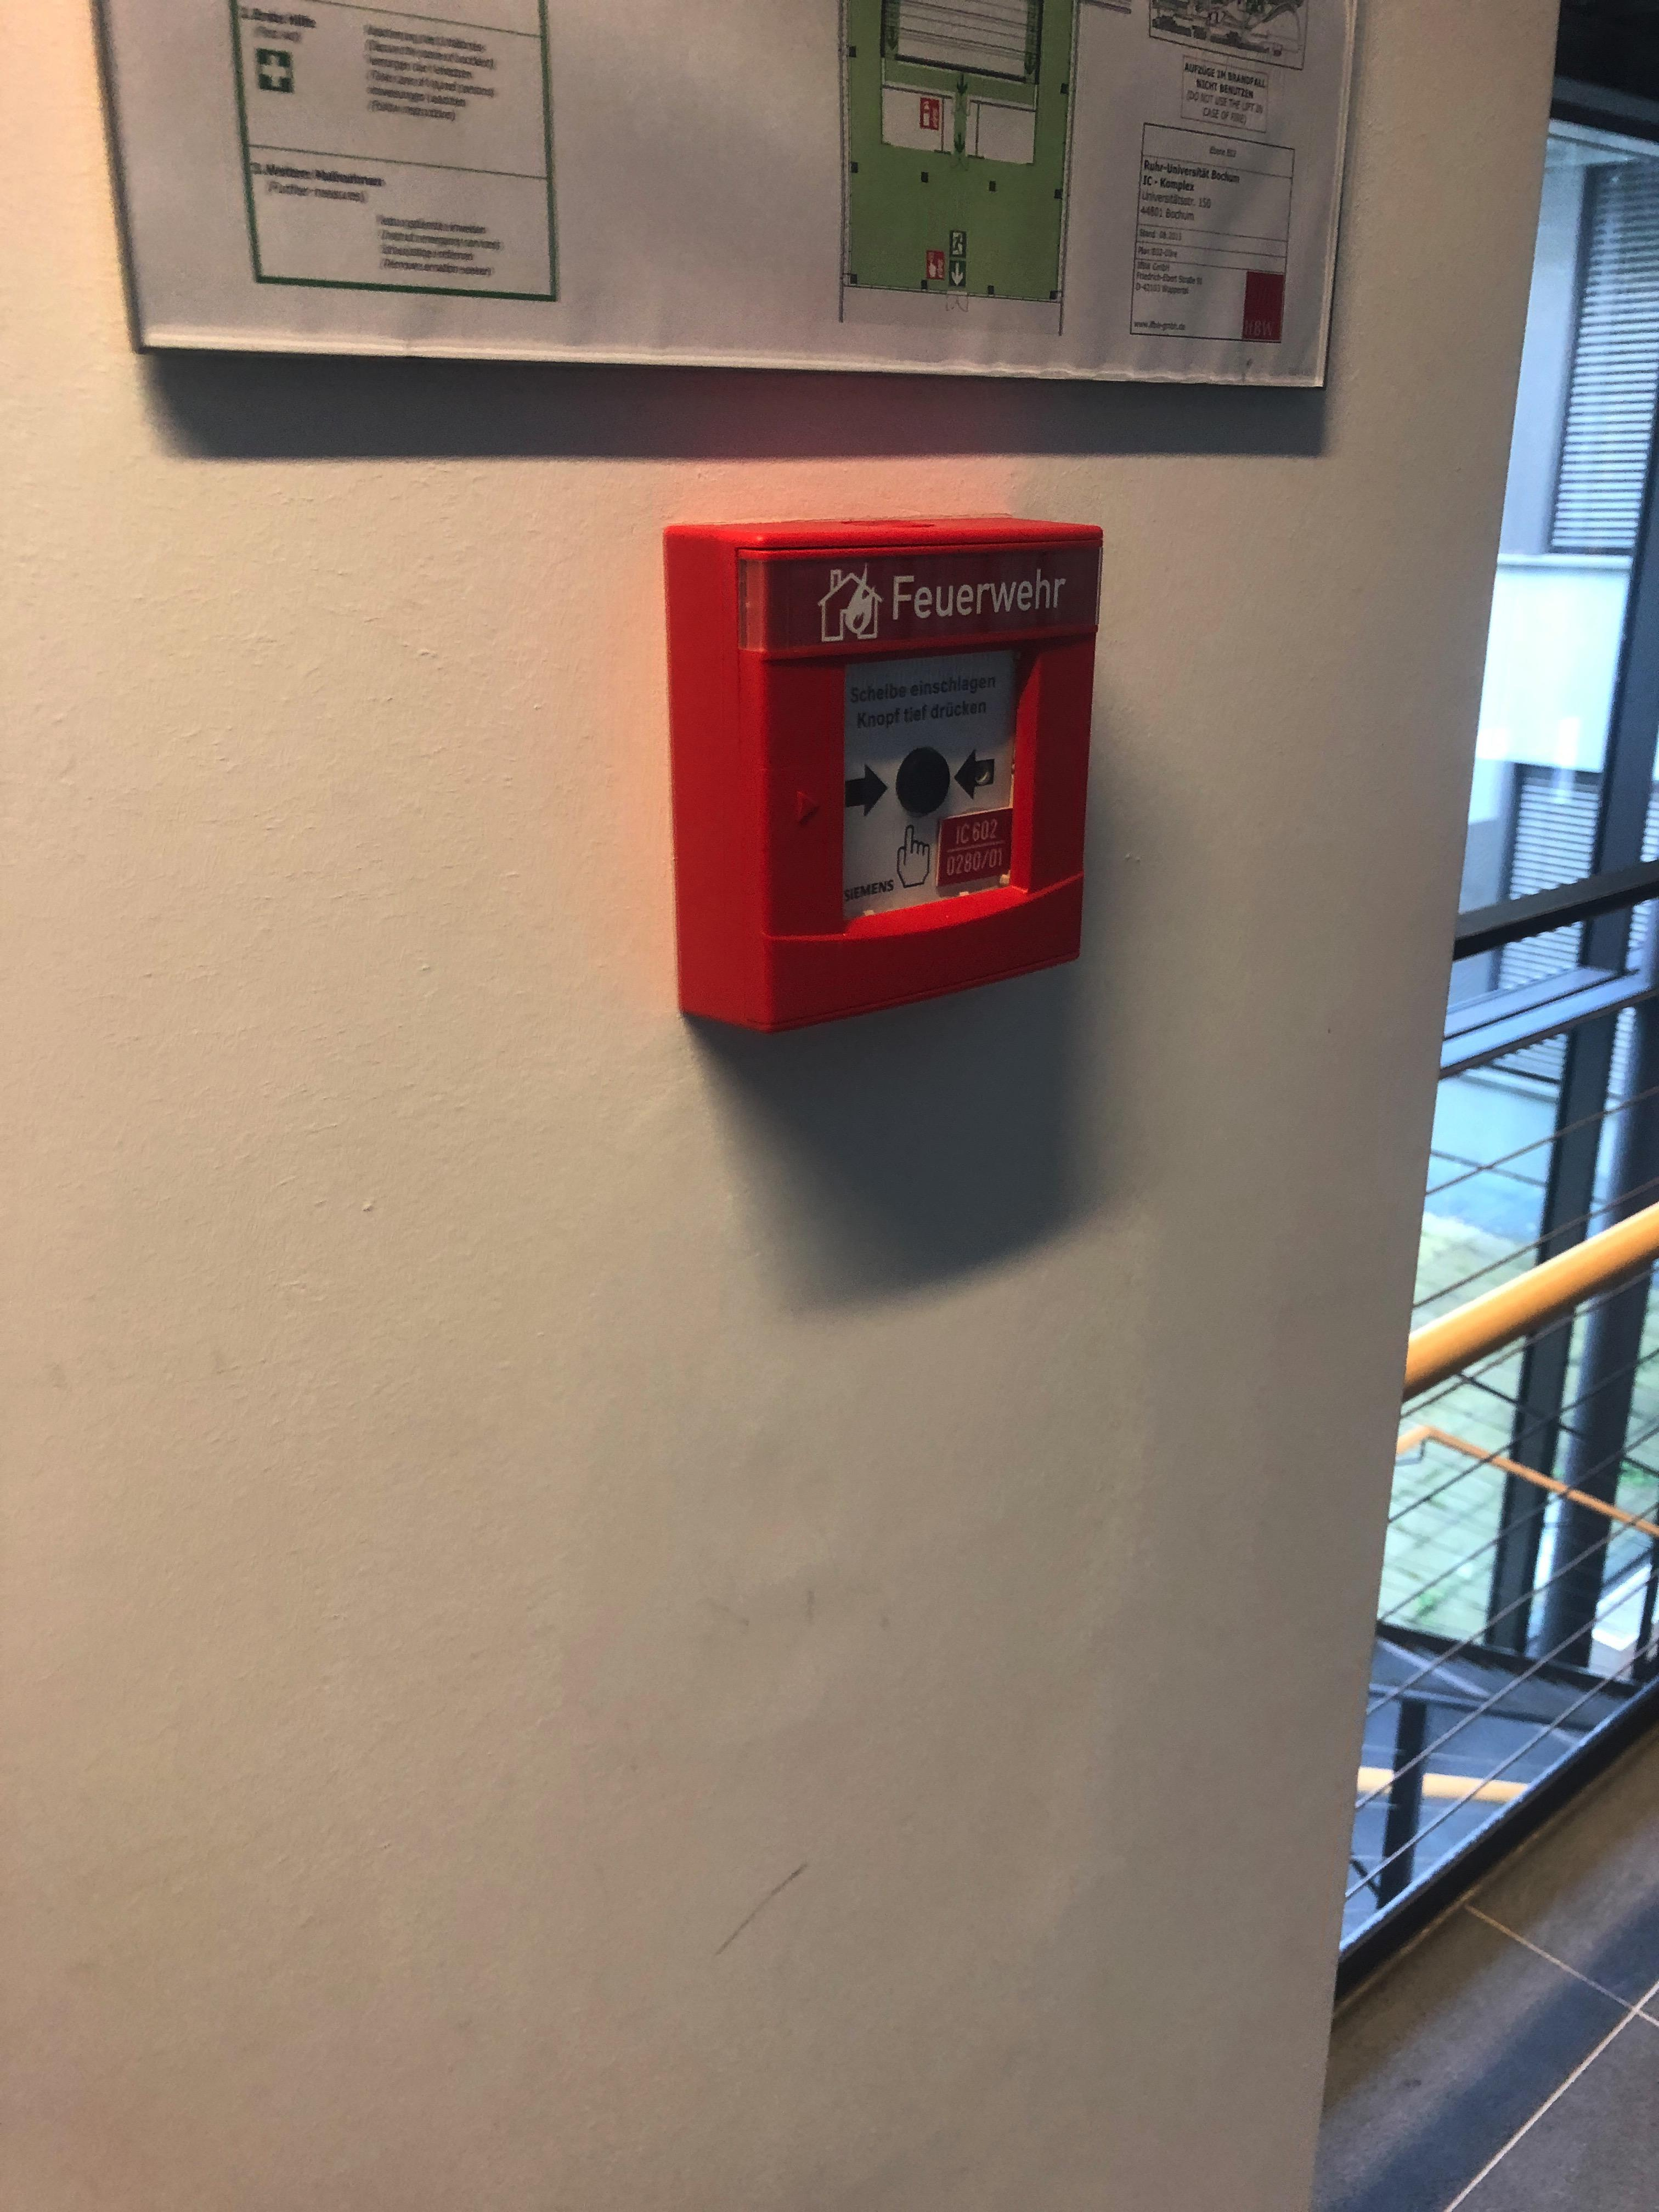call_point: (660, 516, 1101, 1035)
